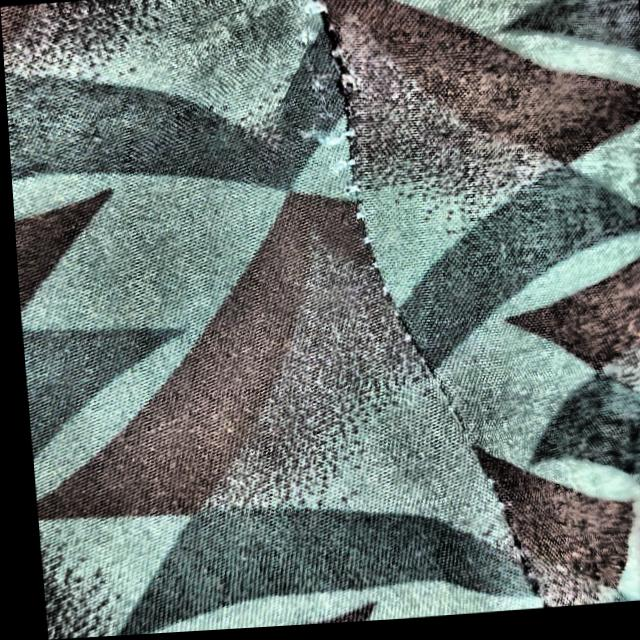Stitch: (277, 0, 404, 270)
